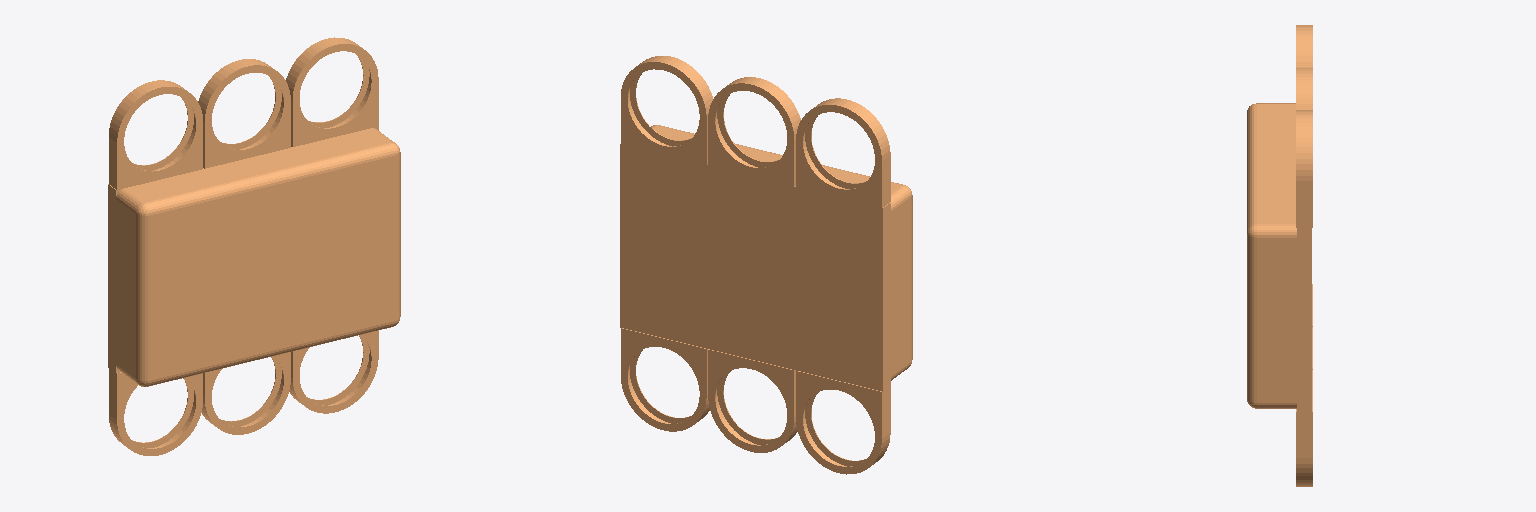
The model's file is WaCaR-OS-body.obj.
3 renders of one model, left to right at view 1: azimuth 30°, elevation 25°; view 2: azimuth 150°, elevation 25°; view 3: azimuth 270°, elevation 25°, orthographic.
Parts seen in each view (by area): view 1: Root|WaCaR-OSG-body_(Default)|Default|color; view 2: Root|WaCaR-OSG-body_(Default)|Default|color; view 3: Root|WaCaR-OSG-body_(Default)|Default|color.
Part boxes in pixels (x1,y1,x2,y2): Root|WaCaR-OSG-body_(Default)|Default|color: (108,37,400,455); Root|WaCaR-OSG-body_(Default)|Default|color: (620,56,912,474); Root|WaCaR-OSG-body_(Default)|Default|color: (1247,25,1312,486).
Size of the model in its own units: 3 by 4 by 0.66.